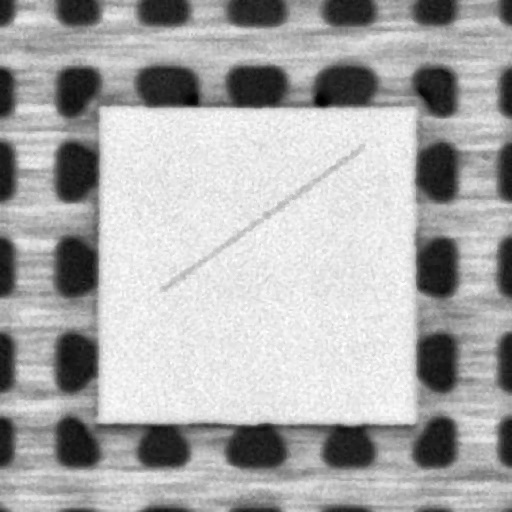DIE_CRACK: (162, 146, 361, 288)
